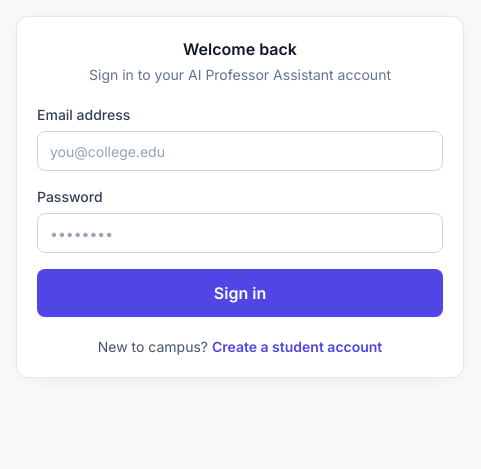
Login page › shows the server message for bad credentials
expect the heading "Welcome back" is shown: met, box [183,39,297,59]
Step 1. Type "ada@example.com" into the field labelled "Email address" → (240, 151), box [37,131,443,171]
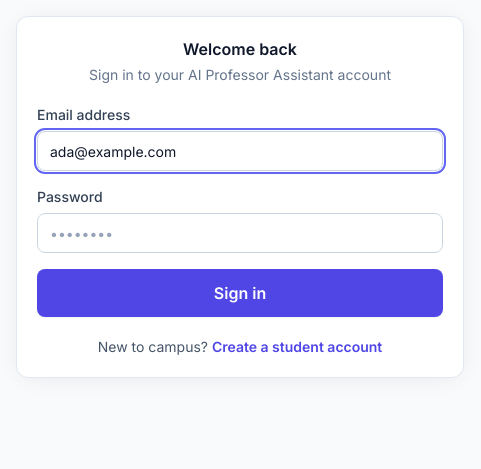
Step 2. Type "wrong-password" into the password field labelled "Password" → (240, 233), box [37,213,443,253]
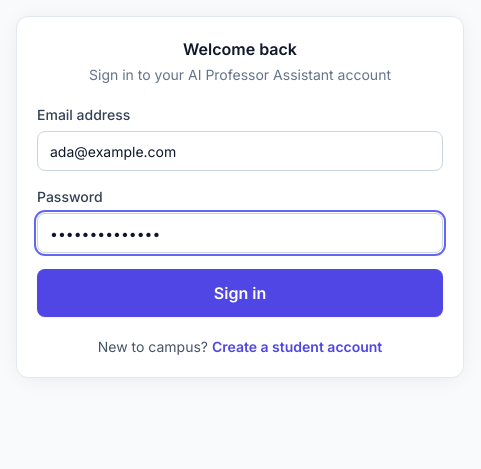
Step 3. Click the button "Sign in" → click(240, 293), box [37,269,443,317]
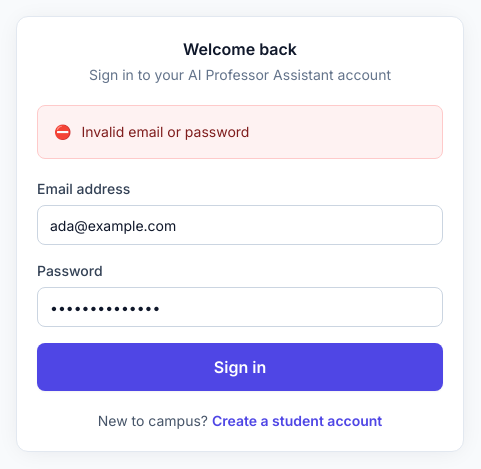
expect the text "Invalid email or password" is shown: met, box [82,123,250,140]
